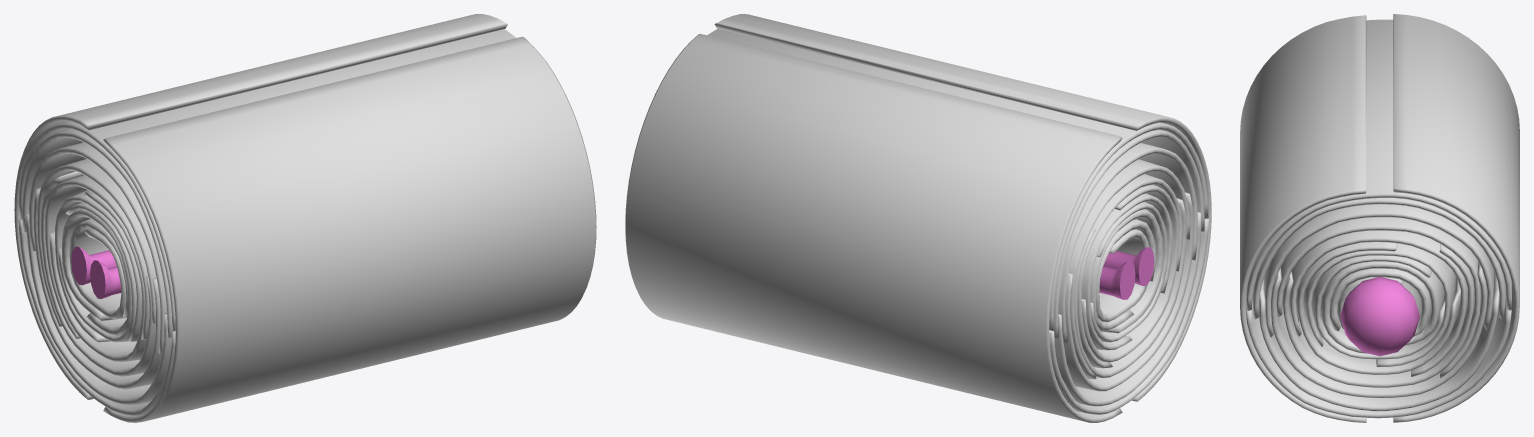
Rendered from huton_1(15)_m.FBX.
The picture shows the model from 3 angles, left to right: view 1: azimuth 30°, elevation 25°; view 2: azimuth 150°, elevation 25°; view 3: azimuth 270°, elevation 25°; orthographic projection. The views are drawn at different scales.
Parts seen in each view (by area): view 1: huton1; view 2: huton1; view 3: huton1.
Boxes of the visible parts, x1=… form: huton1: x1=14, y1=14, x2=596, y2=422; huton1: x1=625, y1=14, x2=1211, y2=422; huton1: x1=1240, y1=14, x2=1519, y2=422.
Size of the model in its own units: 181 by 97.4 by 105.
